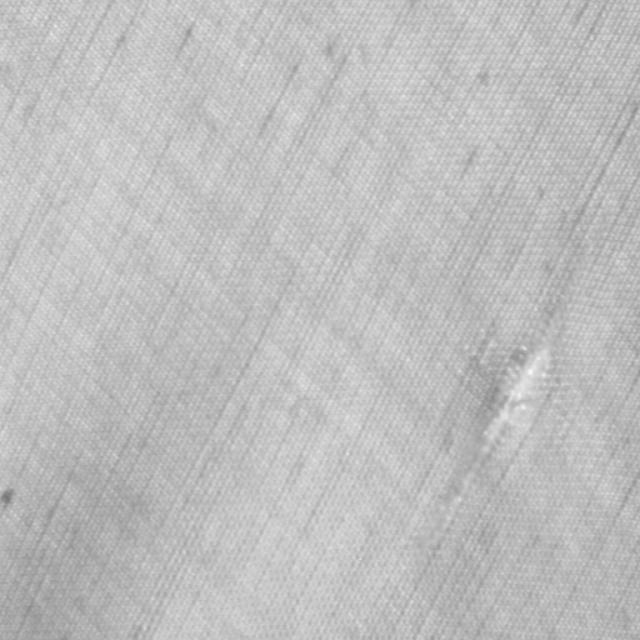thread error: (433, 306, 567, 532)
